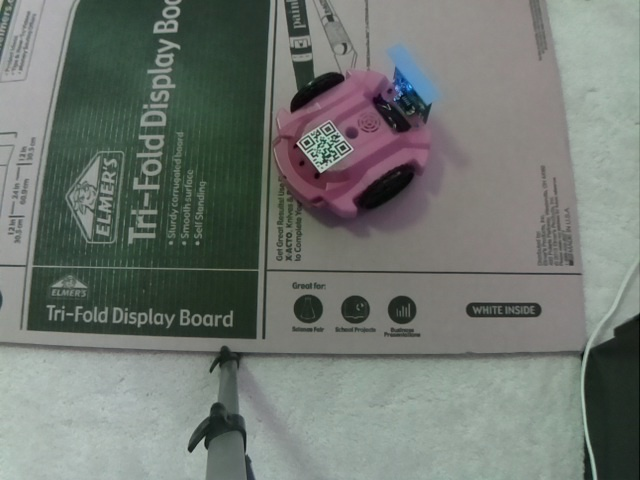chassis: (272, 60, 437, 220)
qr: (294, 119, 353, 174)
